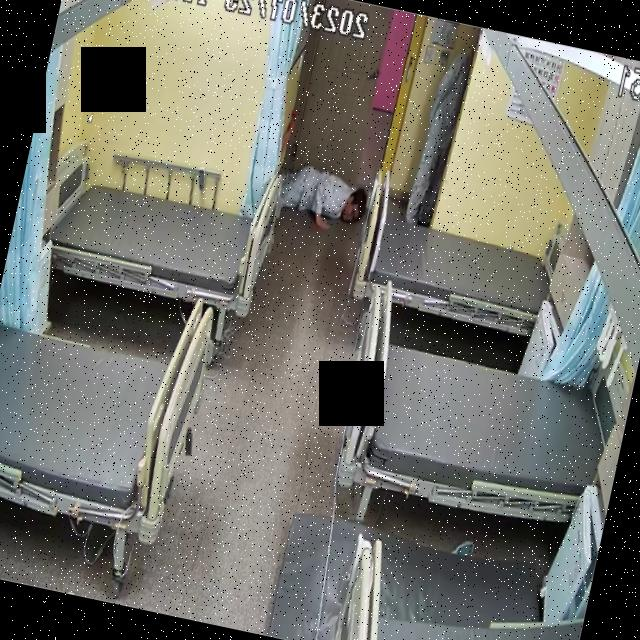bed: (0, 257, 221, 542), (330, 327, 620, 530), (28, 154, 282, 319), (352, 201, 556, 336)
fall: (267, 156, 364, 238)
patient: (402, 37, 474, 227), (266, 152, 370, 238)
